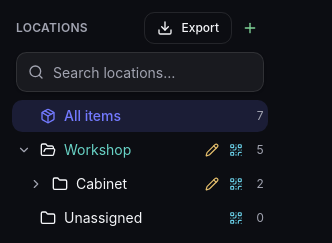
Test: LocationSidebar — name search (issue #129) › reports a query that matches nothing
Type "nothing here" into the field labelled "Search locations" at (140, 72), box [16,52,264,92]
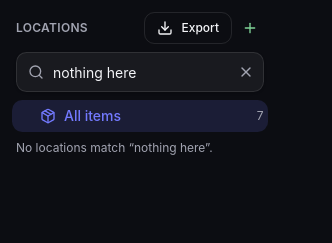
Expected: the text "No locations match “nothing here”." is shown, [16,140,213,155]
Expected: the text "Workshop" is gone
